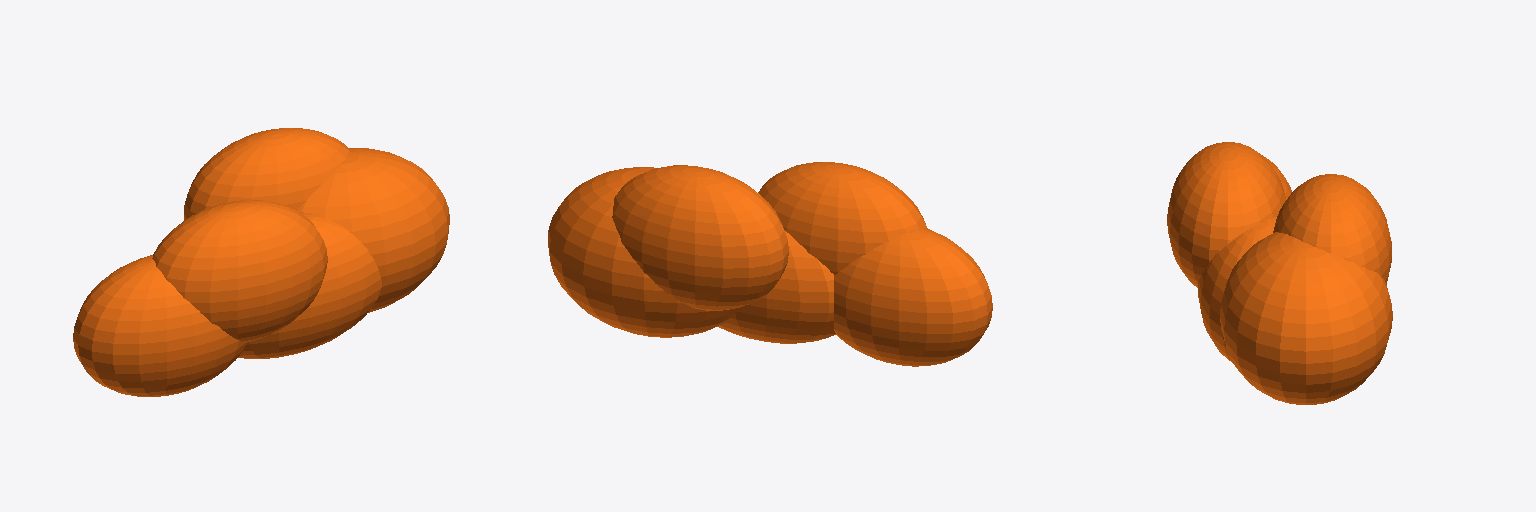
The model's file is bush1.obj.
3 renders of one model, left to right at view 1: azimuth 30°, elevation 25°; view 2: azimuth 150°, elevation 25°; view 3: azimuth 270°, elevation 25°, orthographic.
Parts seen in each view (by area): view 1: pSphere6, pSphere7, pSphere10, pSphere9, pSphere8; view 2: pSphere9, pSphere7, pSphere10, pSphere6, pSphere8; view 3: pSphere10, pSphere6, pSphere9, pSphere8.
Part boxes in pixels (left/top/right/bottom): pSphere6: left=152, top=200, right=327, bottom=342; pSphere7: left=73, top=255, right=247, bottom=396; pSphere10: left=298, top=148, right=449, bottom=312; pSphere9: left=184, top=128, right=349, bottom=220; pSphere8: left=238, top=212, right=381, bottom=358; pSphere9: left=612, top=165, right=788, bottom=310; pSphere7: left=834, top=228, right=992, bottom=366; pSphere10: left=548, top=167, right=737, bottom=337; pSphere6: left=758, top=162, right=926, bottom=274; pSphere8: left=717, top=231, right=835, bottom=343; pSphere10: left=1220, top=232, right=1392, bottom=404; pSphere6: left=1167, top=142, right=1285, bottom=287; pSphere9: left=1273, top=174, right=1391, bottom=284; pSphere8: left=1198, top=217, right=1276, bottom=362.
Size of the model in its own units: 7.53 by 3.33 by 3.7.